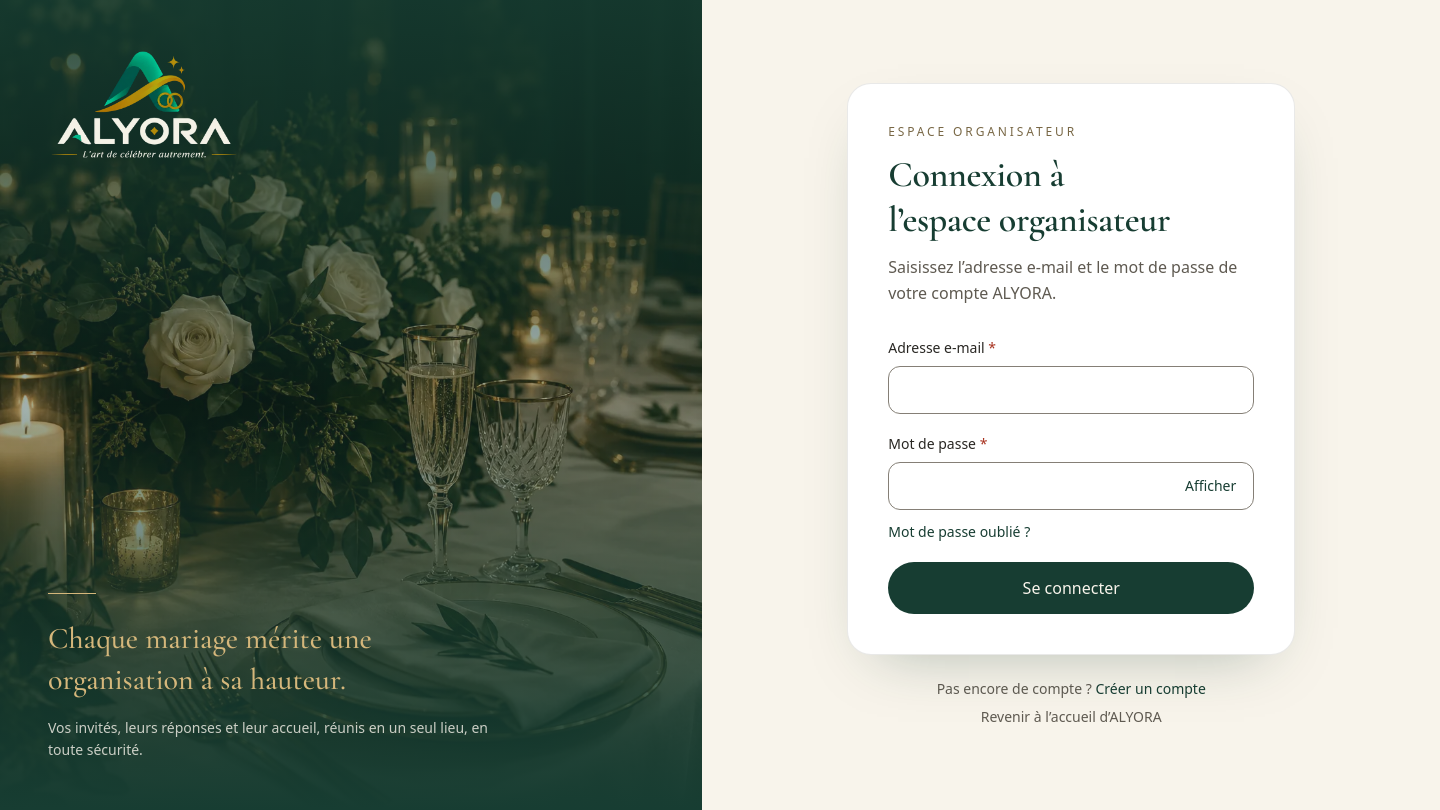
login page › asks for the second factor when 2FA is on, then signs in
The image size is (1440, 810).
Later steps or results of the test are not shown.
In the field labelled "Adresse e-mail *": (1071, 390) [888, 366, 1254, 414], type "awa@exemple.ci"
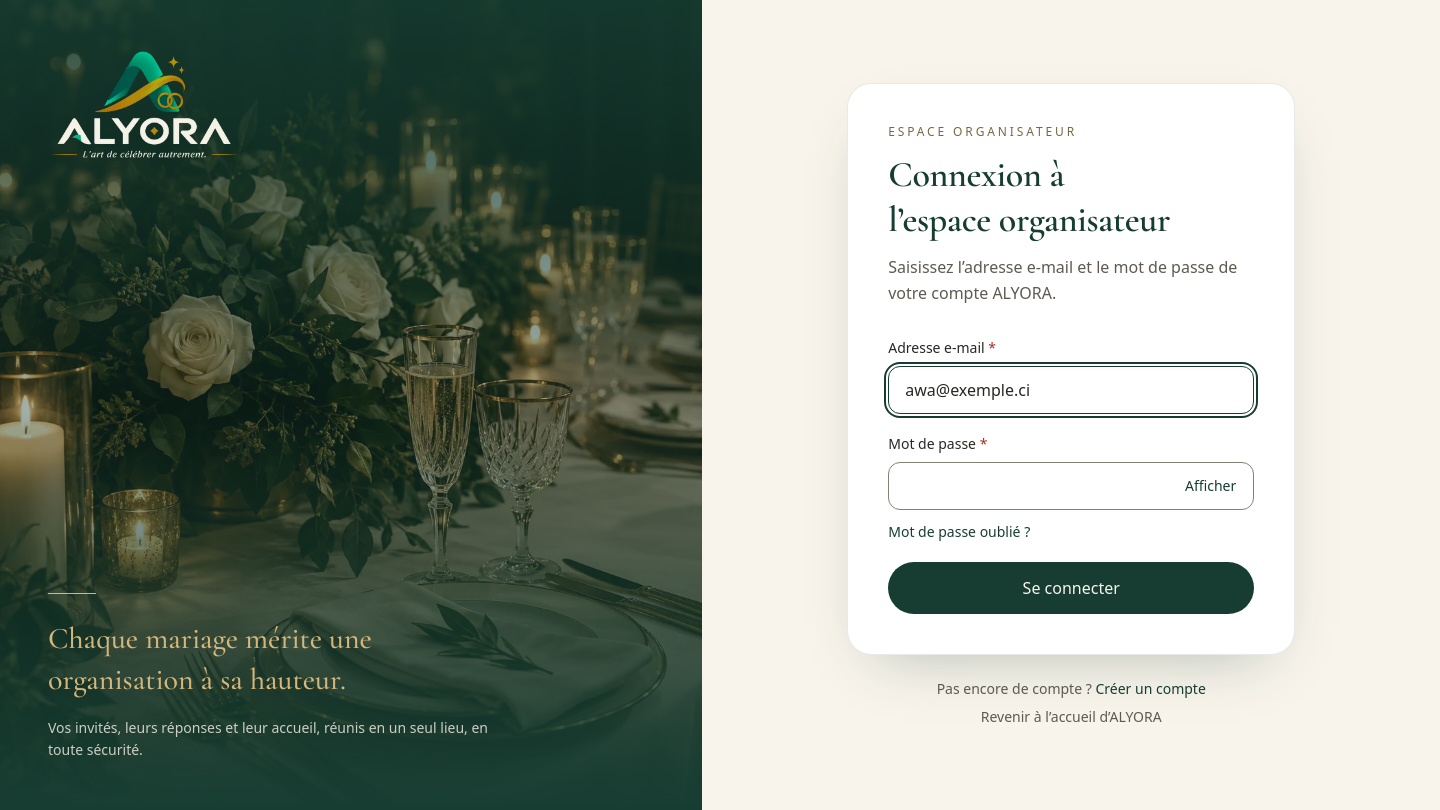
In the password field labelled "Mot de passe *": (1071, 486) [888, 462, 1254, 510], type "Le soleil se lève"
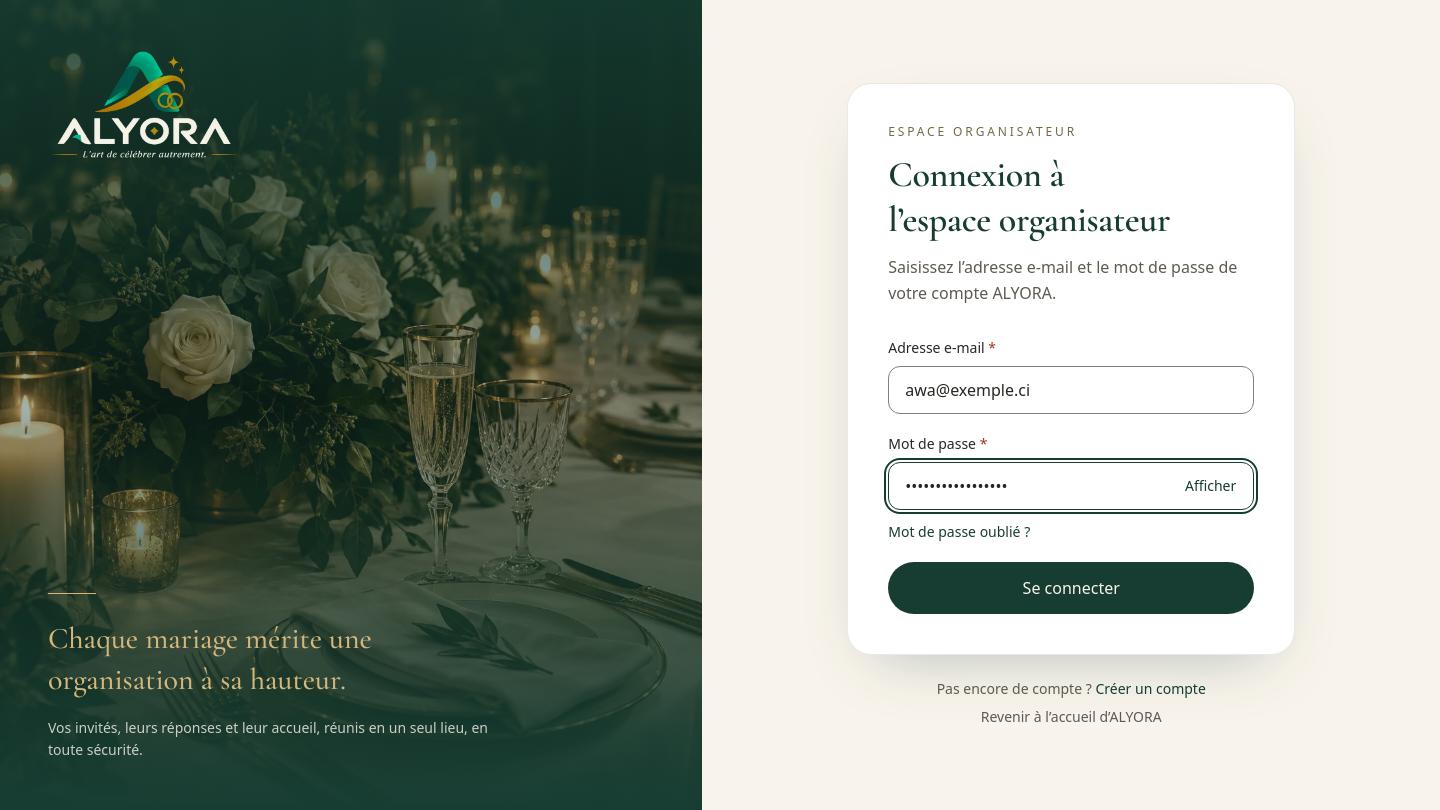
Click the button "Se connecter": (1071, 588) [888, 562, 1254, 614]
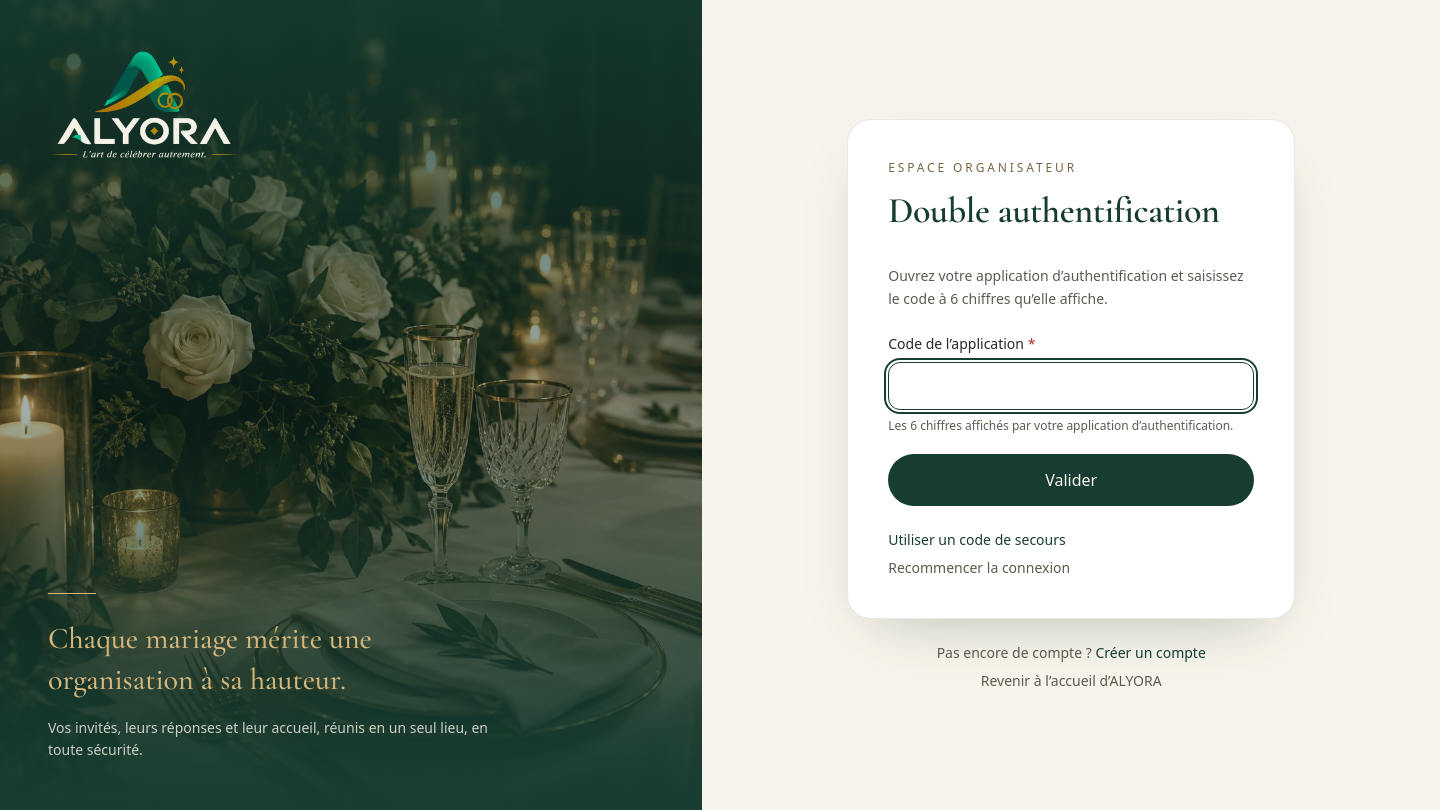
Now the heading "Double authentification" is shown, box [888, 188, 1254, 233]
